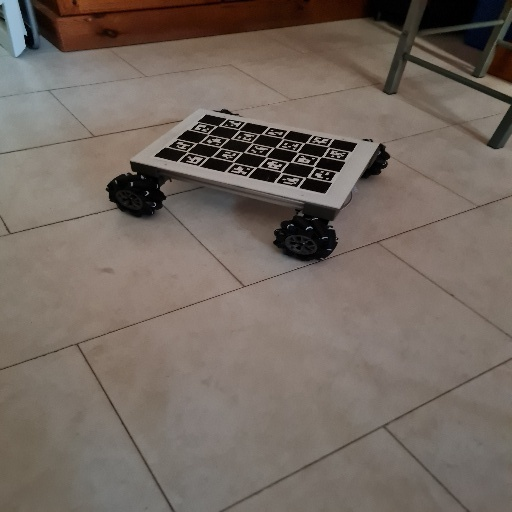Omniwheel: (106, 107, 394, 261)
